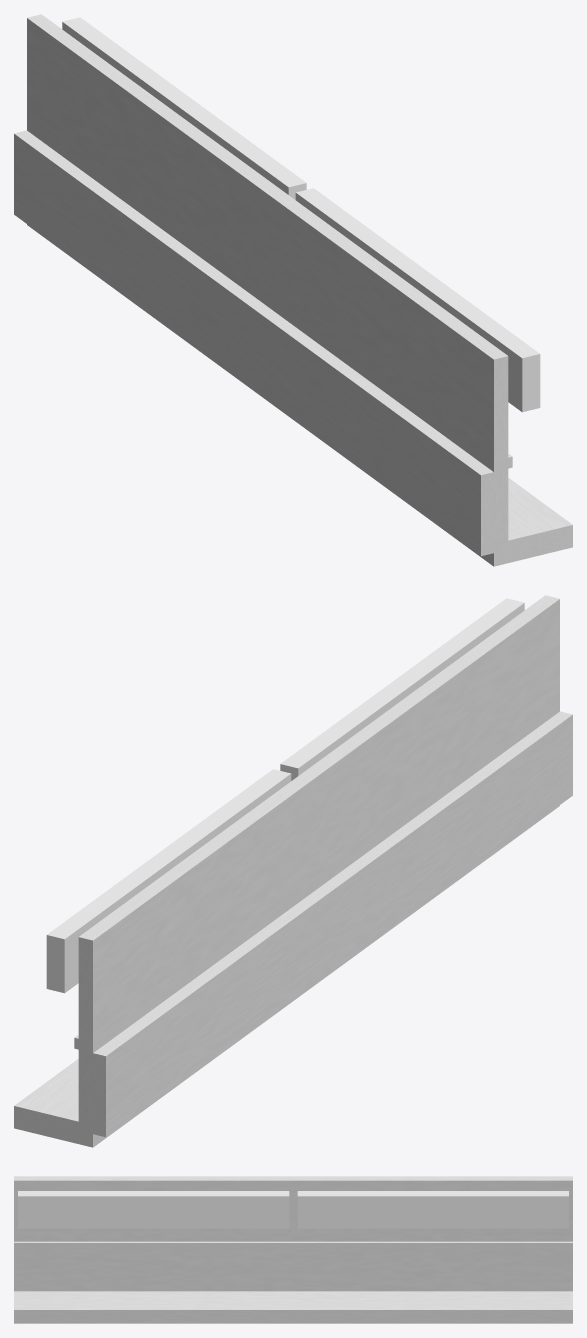
The model's file is coveledstrip.obj.
3 renders of one model, top to bottom at view 1: azimuth 30°, elevation 25°; view 2: azimuth 150°, elevation 25°; view 3: azimuth 270°, elevation 25°, orthographic. The views are drawn at different scales.
Parts seen in each view (by area): view 1: Metal, Base, Light1, Light0; view 2: Metal, Base, Light0, Light1; view 3: Metal, Light0, Light1.
Boxes of the visible parts, x1=… form: Metal: x1=27, y1=14, x2=572, y2=566; Base: x1=14, y1=130, x2=493, y2=556; Light1: x1=295, y1=188, x2=540, y2=412; Light0: x1=62, y1=17, x2=306, y2=199; Metal: x1=14, y1=595, x2=559, y2=1147; Base: x1=93, y1=711, x2=572, y2=1137; Light0: x1=46, y1=769, x2=291, y2=993; Light1: x1=280, y1=598, x2=524, y2=780; Metal: x1=14, y1=1176, x2=572, y2=1323; Light0: x1=297, y1=1191, x2=568, y2=1228; Light1: x1=18, y1=1191, x2=289, y2=1228.
Bounding box in the file's own units: 0.107 × 0.23 × 0.94.
